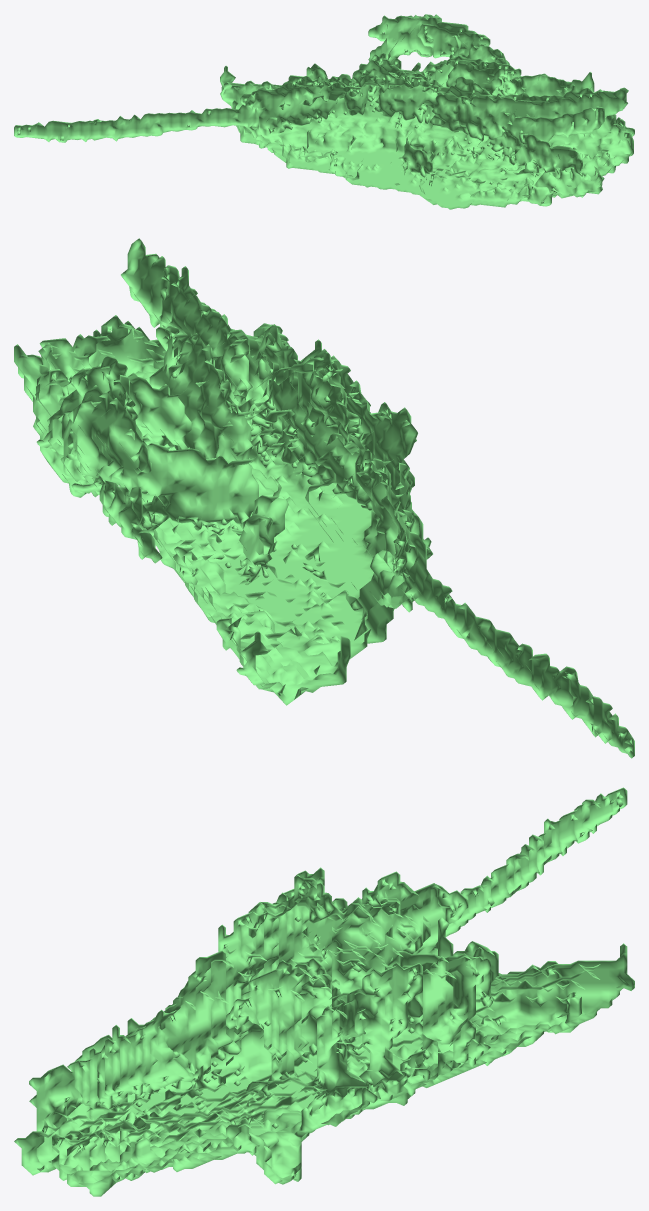
File: osteocyte_24.glb
3 renders of one model, top to bottom at view 1: azimuth 30°, elevation 25°; view 2: azimuth 150°, elevation 25°; view 3: azimuth 270°, elevation 25°, orthographic. The views are drawn at different scales.
Parts seen in each view (by area): view 1: osteocyte_24; view 2: osteocyte_24; view 3: osteocyte_24.
Part boxes in pixels (box(x1,y1,x2,y2)): osteocyte_24: box(14, 14, 634, 209); osteocyte_24: box(14, 238, 634, 758); osteocyte_24: box(14, 787, 634, 1196).
Size of the model in its own units: 56.81 by 14.44 by 39.48.
